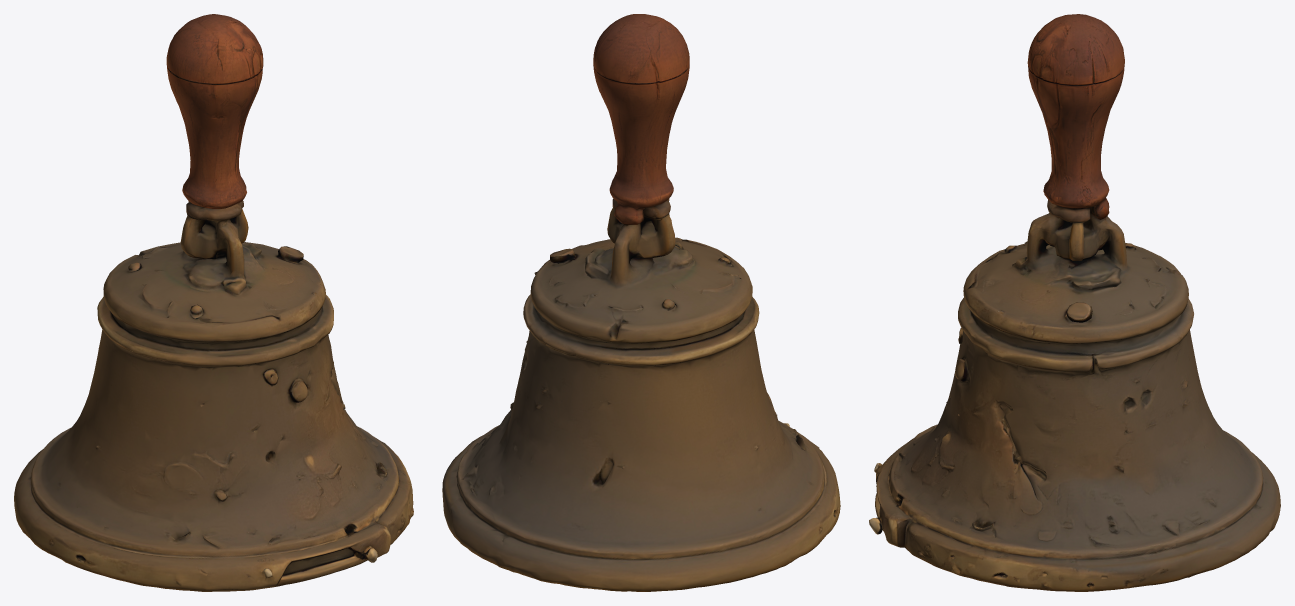
Rendered from scene-ritual-bell-v03.glb.
3 renders of one model, left to right at view 1: azimuth 30°, elevation 25°; view 2: azimuth 150°, elevation 25°; view 3: azimuth 270°, elevation 25°, orthographic.
Parts seen in each view (by area): view 1: tripo_node_449b3985-b538-4091-8070-9c80937a207f; view 2: tripo_node_449b3985-b538-4091-8070-9c80937a207f; view 3: tripo_node_449b3985-b538-4091-8070-9c80937a207f.
Part boxes in pixels (box(x1,y1,x2,y2)): tripo_node_449b3985-b538-4091-8070-9c80937a207f: box(14, 14, 413, 591); tripo_node_449b3985-b538-4091-8070-9c80937a207f: box(442, 14, 840, 591); tripo_node_449b3985-b538-4091-8070-9c80937a207f: box(869, 14, 1280, 591).
Bounding box in the file's own units: 0.1846 × 0.25 × 0.1894.
Materials: 1 (1 with a texture image).
